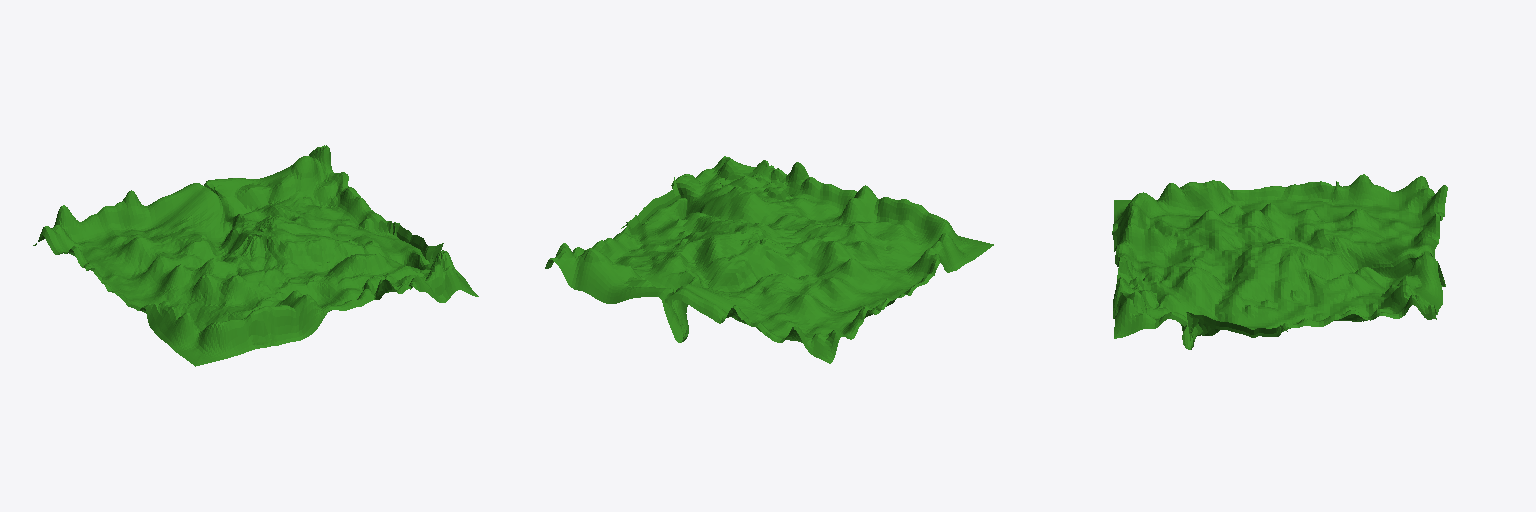
The model's file is TrackTerrain.obj.
The picture shows the model from 3 angles: view 1: azimuth 30°, elevation 25°; view 2: azimuth 150°, elevation 25°; view 3: azimuth 270°, elevation 25°; orthographic projection.
Parts seen in each view (by area): view 1: Terrain; view 2: Terrain; view 3: Terrain.
Boxes of the visible parts, x1=… form: Terrain: x1=33, y1=145, x2=478, y2=366; Terrain: x1=545, y1=156, x2=993, y2=363; Terrain: x1=1112, y1=174, x2=1447, y2=349.
Size of the model in its own units: 205 by 37.94 by 205.